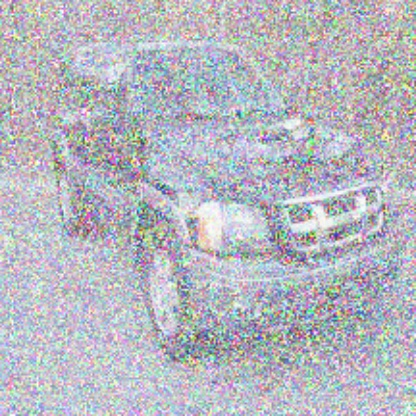Vehicle: (47, 36, 409, 365)
